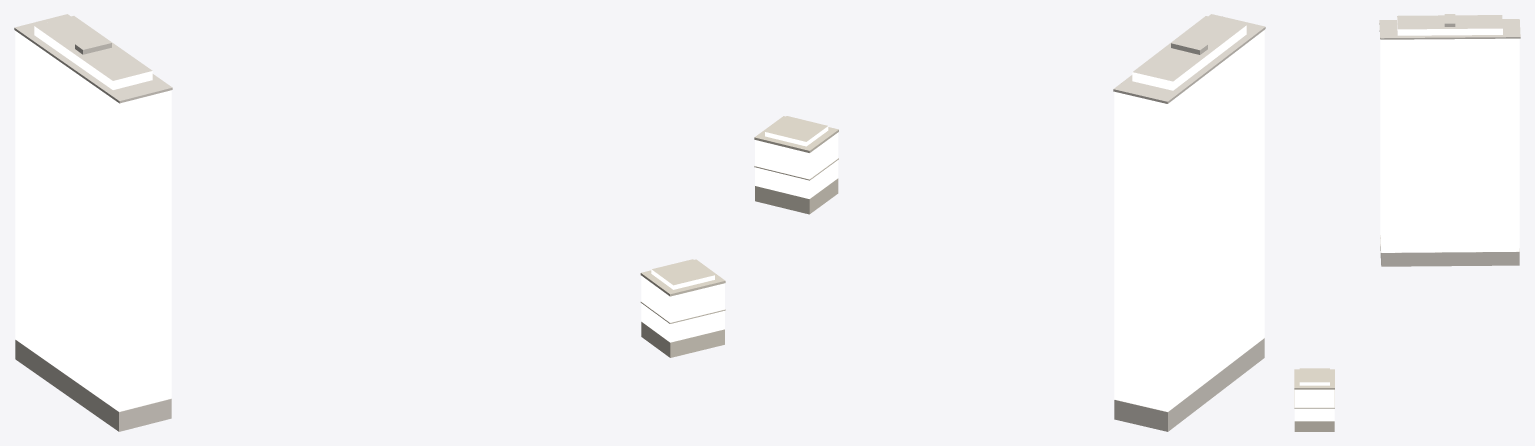
The model's file is buildings--8_-5-fine.glb.
3 renders of one model, left to right at view 1: azimuth 30°, elevation 25°; view 2: azimuth 150°, elevation 25°; view 3: azimuth 270°, elevation 25°, orthographic. The views are drawn at different scales.
Parts seen in each view (by area): view 1: block_-8_-5_office, block_-8_-5_roof, block_-8_-5_darkglass, block_-8_-5_residential; view 2: block_-8_-5_office, block_-8_-5_roof, block_-8_-5_darkglass, block_-8_-5_residential; view 3: block_-8_-5_office, block_-8_-5_roof, block_-8_-5_darkglass, block_-8_-5_residential, block_-8_-5_steel.
Part boxes in pixels (left/top/right/bottom): block_-8_-5_office: left=15, top=26, right=171, bottom=411; block_-8_-5_roof: left=14, top=14, right=725, bottom=412; block_-8_-5_darkglass: left=15, top=322, right=724, bottom=431; block_-8_-5_residential: left=641, top=269, right=724, bottom=342; block_-8_-5_office: left=1114, top=25, right=1264, bottom=411; block_-8_-5_roof: left=754, top=14, right=1265, bottom=412; block_-8_-5_darkglass: left=755, top=178, right=1264, bottom=431; block_-8_-5_residential: left=755, top=126, right=838, bottom=198; block_-8_-5_office: left=1380, top=17, right=1519, bottom=252; block_-8_-5_roof: left=1294, top=14, right=1520, bottom=407; block_-8_-5_darkglass: left=1294, top=246, right=1519, bottom=431; block_-8_-5_residential: left=1294, top=382, right=1334, bottom=421; block_-8_-5_steel: left=1379, top=23, right=1520, bottom=39.
Bounding box in the file's own units: 100 × 60.45 × 52.
